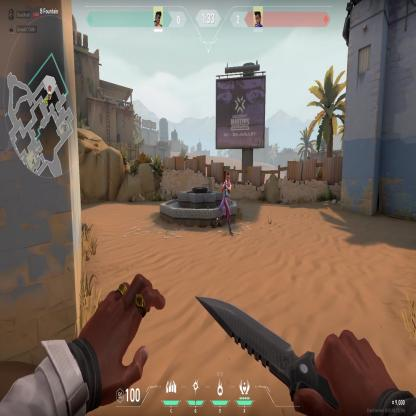enemy: (216, 170, 234, 236)
